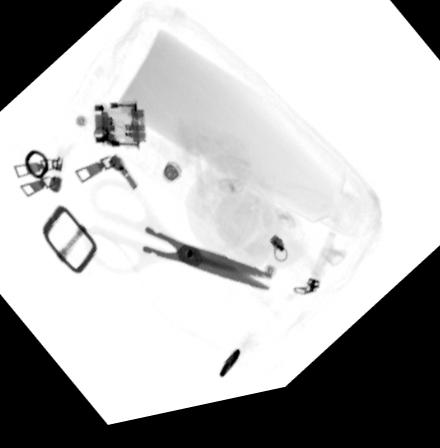Scissors: (74, 181, 273, 300)
